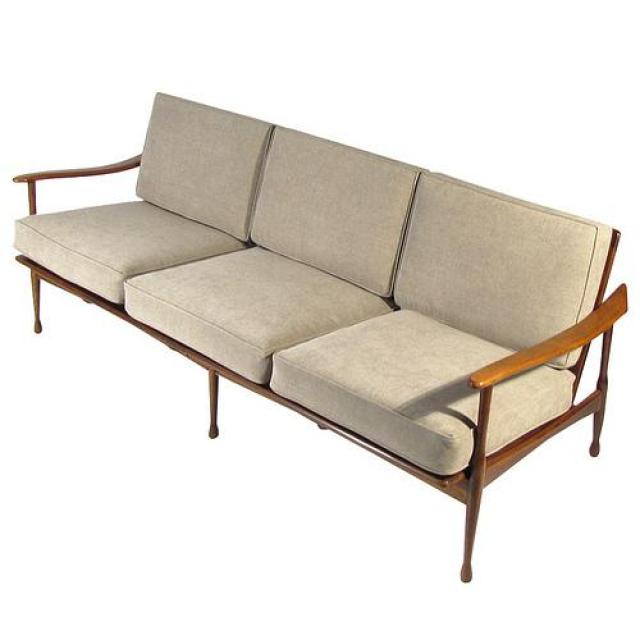sofa: (12, 86, 629, 585)
